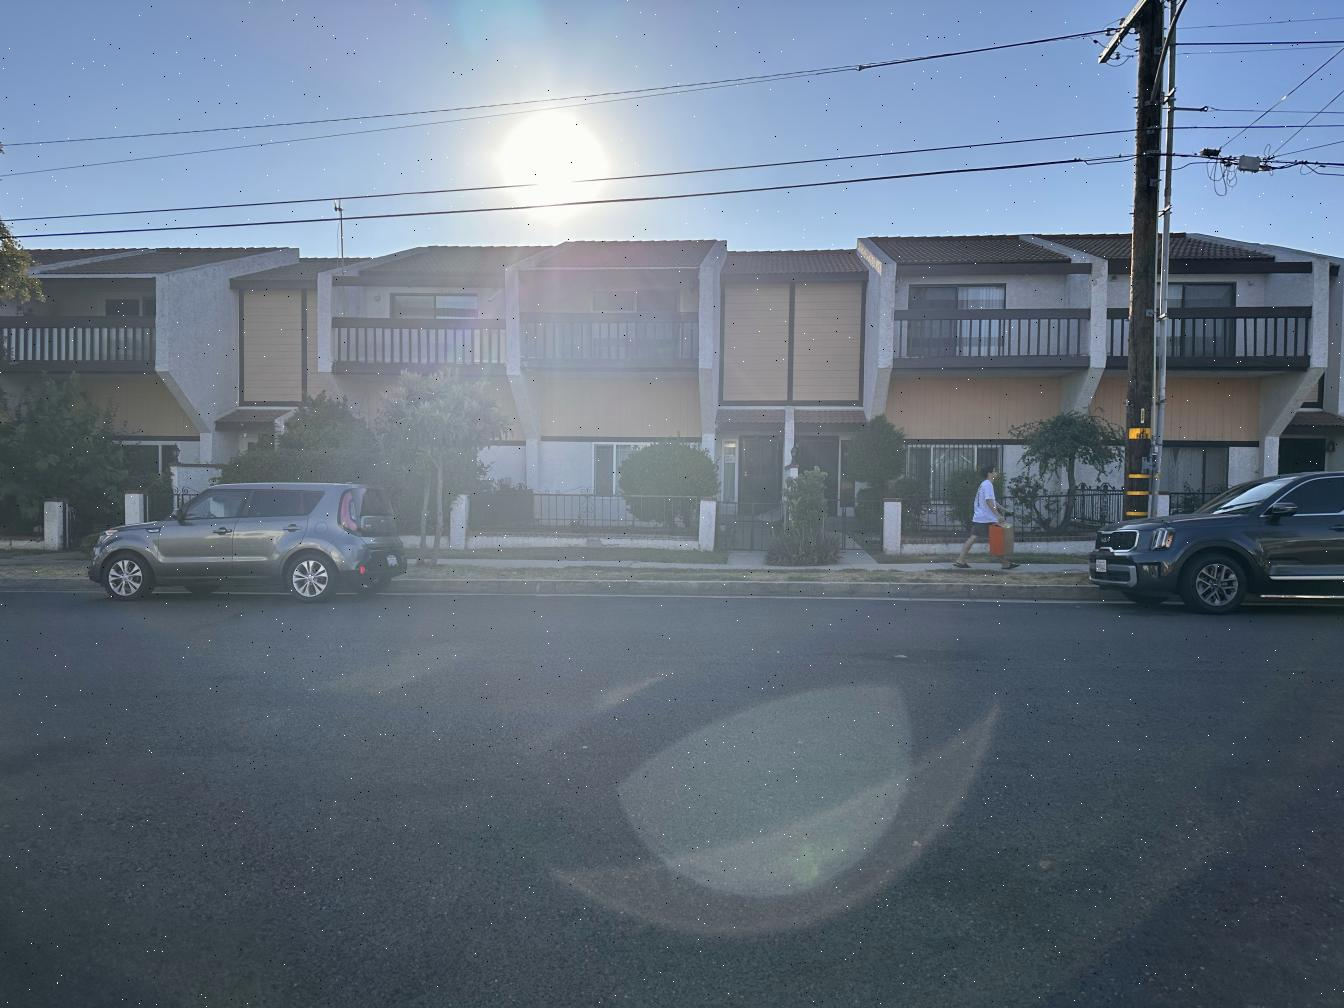curbs-laRr: (407, 576, 1092, 604)
